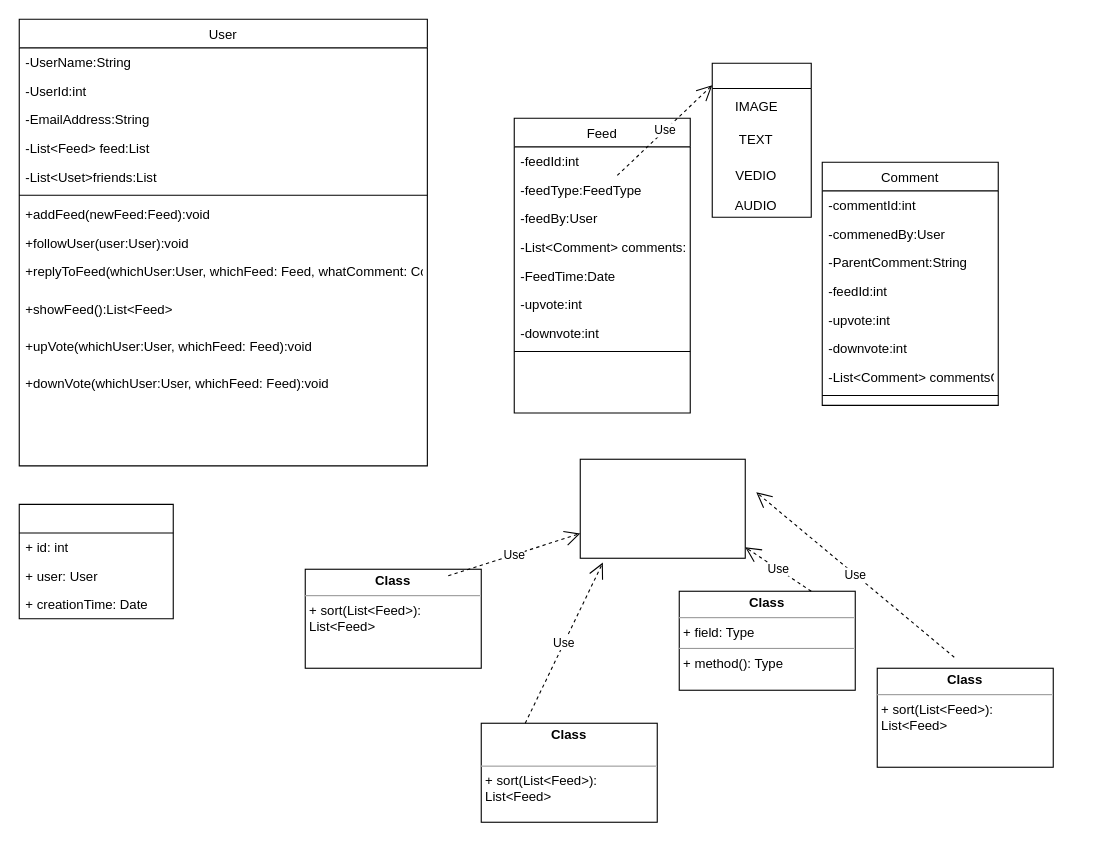
Some shapes in this 1108 by 842 pixel diagram are drawn without their labels. The box of each missing label's shape, as (x1, y1, x2, y2) in pixels:
<<SortNewsFeeds>> Interface + sort (List<Feed>): List<Feed>: (579, 458, 745, 558)
FEEDTYPE: (711, 62, 811, 217)
Session: (18, 503, 173, 619)
